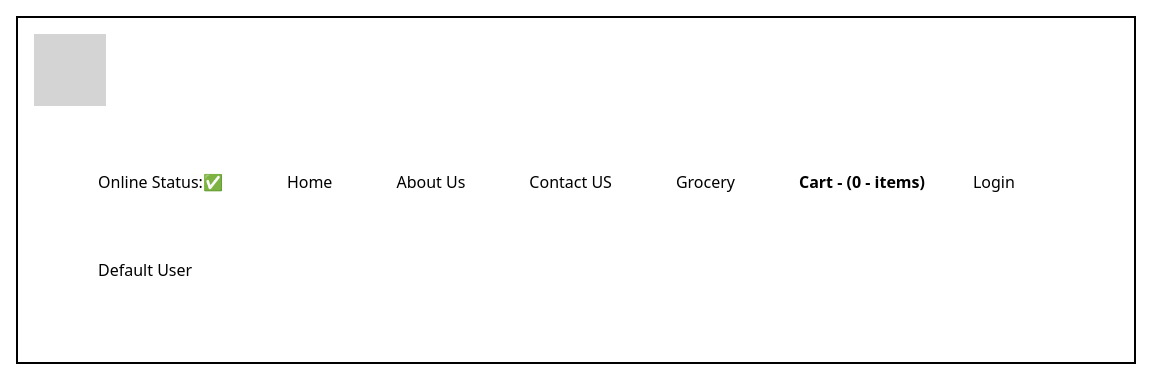
Scenario: should render the logout button on click of login button
What coordinates should you click on to do the following:
click the button "Login"
I would click on:
 (994, 182)
Its box is [957, 138, 1031, 226].
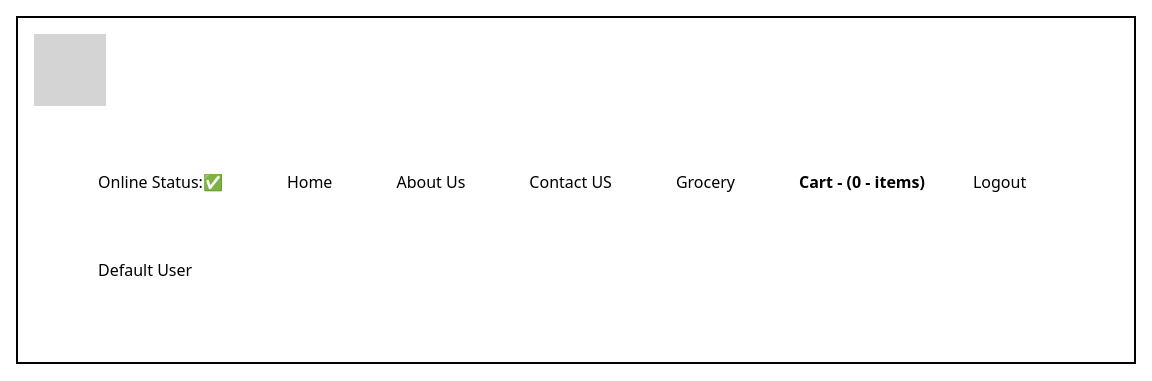
Result: the button "Logout" is shown at [957, 138, 1042, 226]
